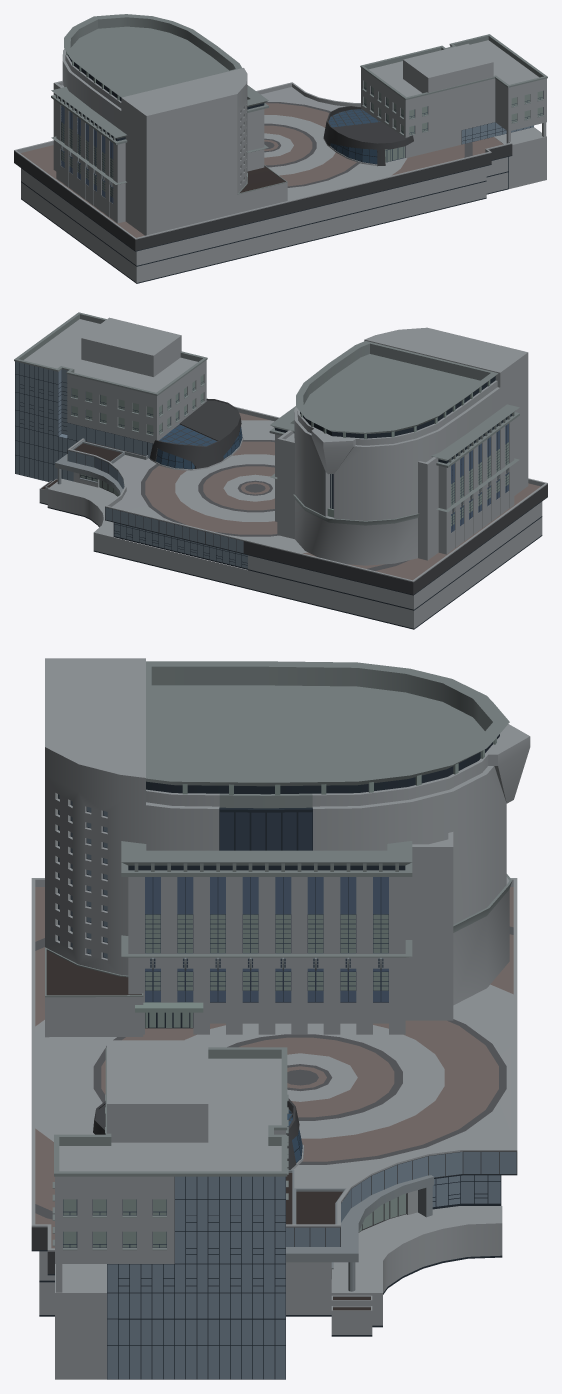
Rendered from 05_프라임관.FBX.
3 renders of one model, top to bottom at view 1: azimuth 30°, elevation 25°; view 2: azimuth 150°, elevation 25°; view 3: azimuth 270°, elevation 25°, orthographic. The views are drawn at different scales.
Parts seen in each view (by area): view 1: 05_프라임관; view 2: 05_프라임관; view 3: 05_프라임관.
Boxes of the visible parts, box(x1,y1,x2,y2) form: 05_프라임관: box(14, 14, 547, 283); 05_프라임관: box(14, 312, 547, 629); 05_프라임관: box(31, 658, 530, 1379).
Size of the model in its own units: 414 by 155 by 213.
